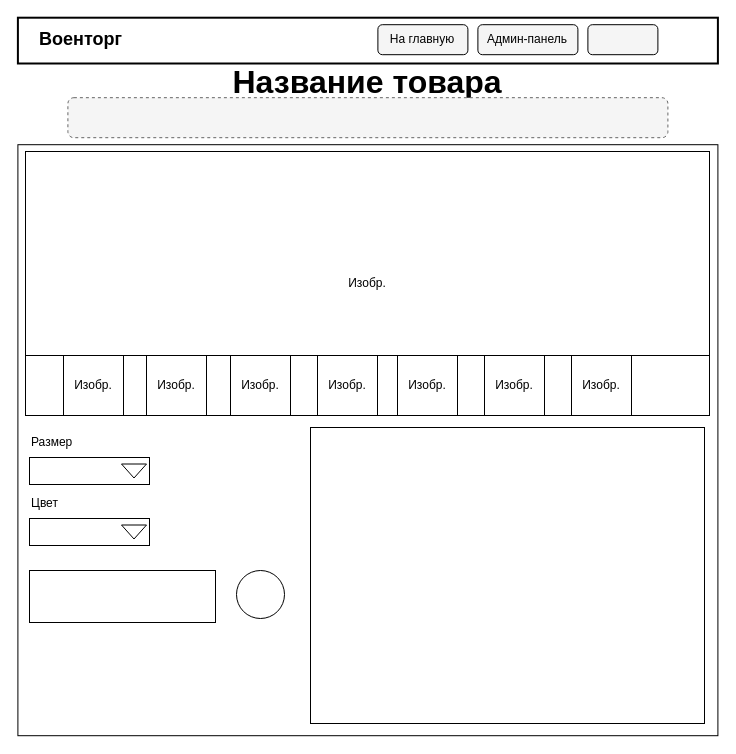
This 736x754 diagram has some shape labels left out. The shapes that lost their labels are listed below. From the top down, each one's centre as x and y in pixels, then its label:
At (x=622, y=39): "Выйти".
At (x=367, y=117): "Сообщения системы".
At (x=260, y=594): "Избр.".
At (x=507, y=575): "Описание".
At (x=122, y=596): "Добавь в корзине".
